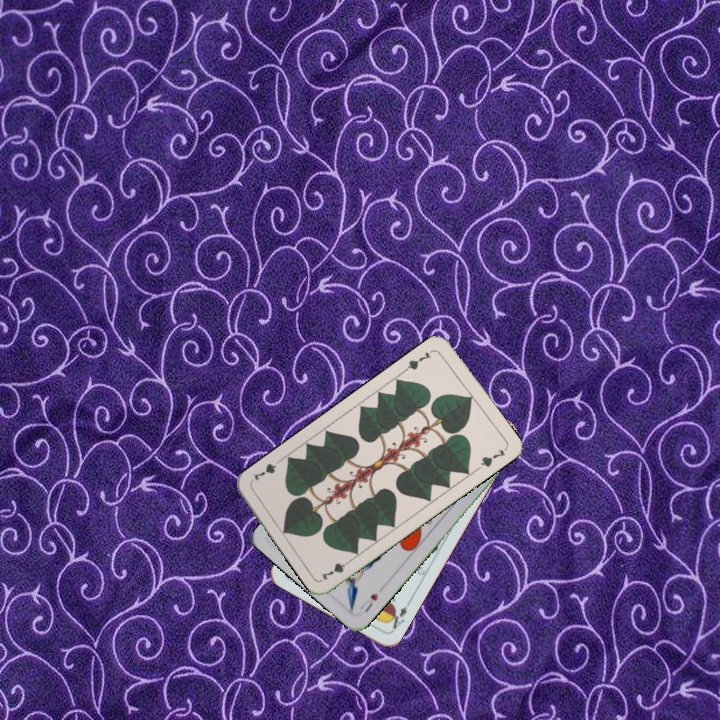EA: (384, 602, 410, 634)
G7: (317, 555, 355, 583), (401, 346, 437, 374)
HU: (356, 589, 381, 615)
